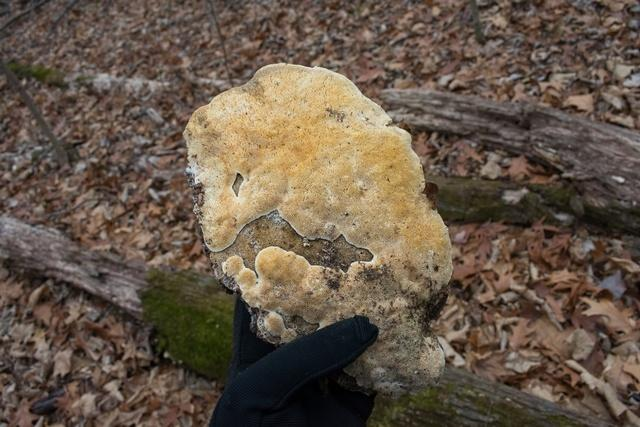Non-edible Mushroom: (181, 60, 454, 399)
